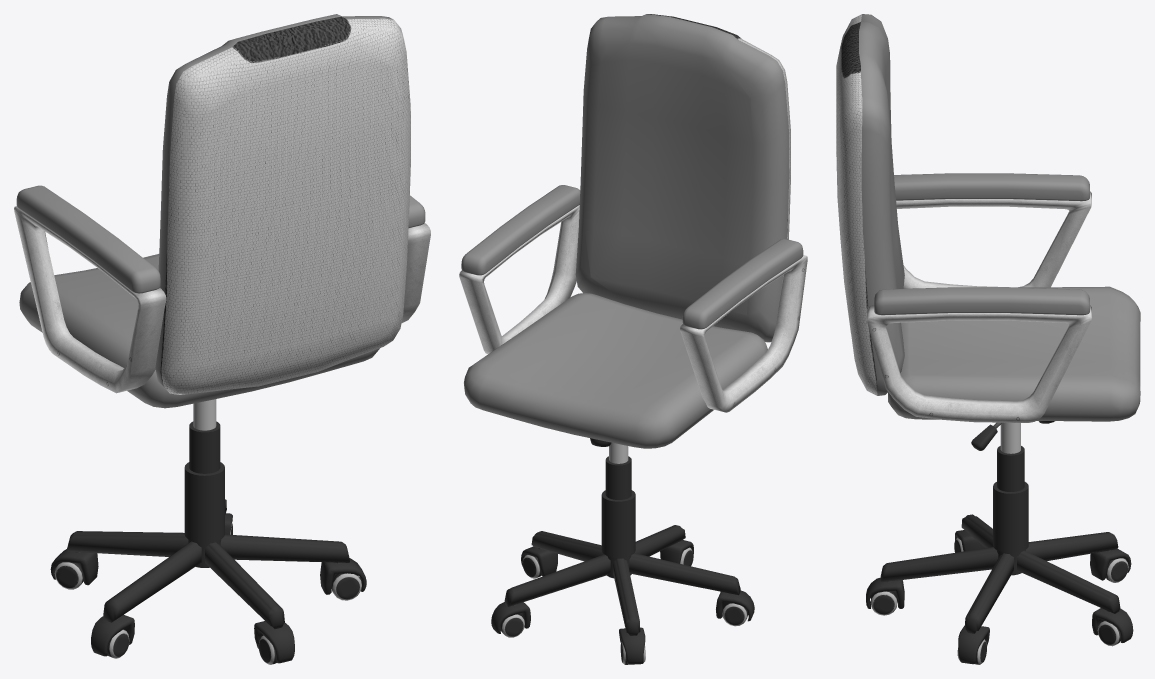
Rendered from rollingchair.fbx.
The picture shows the model from 3 angles, left to right: view 1: azimuth 30°, elevation 25°; view 2: azimuth 150°, elevation 25°; view 3: azimuth 270°, elevation 25°; orthographic projection. The views are drawn at different scales.
Visible parts, largest first — view 1: Office_Chair1; view 2: Office_Chair1; view 3: Office_Chair1.
Boxes of the visible parts, x1,y1,x2,y2 form: Office_Chair1: (14, 14, 430, 664); Office_Chair1: (459, 14, 807, 664); Office_Chair1: (836, 14, 1140, 664).
Size of the model in its own units: 84.44 by 178 by 86.13.
Materials: 2 (1 with a texture image).
